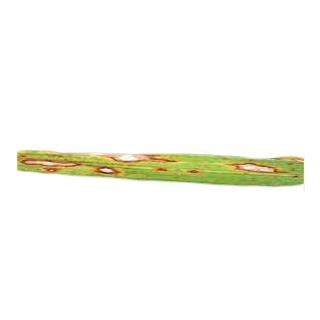Blast: (225, 157, 293, 178), (23, 154, 76, 174), (104, 146, 164, 163), (93, 164, 128, 178)
